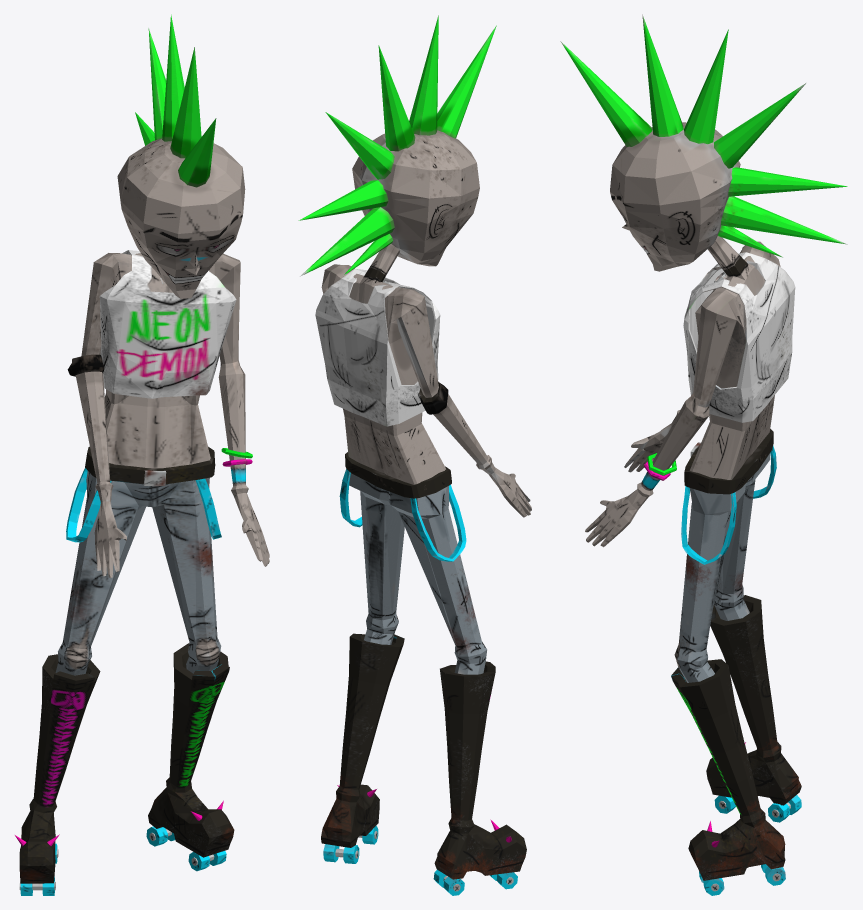
File: punkAnimation_000004.obj
3 renders of one model, left to right at view 1: azimuth 30°, elevation 25°; view 2: azimuth 150°, elevation 25°; view 3: azimuth 270°, elevation 25°, orthographic. The views are drawn at different scales.
Visible parts, largest first — view 1: Cube.004_Cube.003; view 2: Cube.004_Cube.003; view 3: Cube.004_Cube.003.
Boxes of the visible parts, x1,y1,x2,y2 form: Cube.004_Cube.003: (15, 14, 269, 895); Cube.004_Cube.003: (298, 15, 531, 895); Cube.004_Cube.003: (560, 14, 847, 895).
Size of the model in its own units: 1.97 by 7.48 by 2.3.
